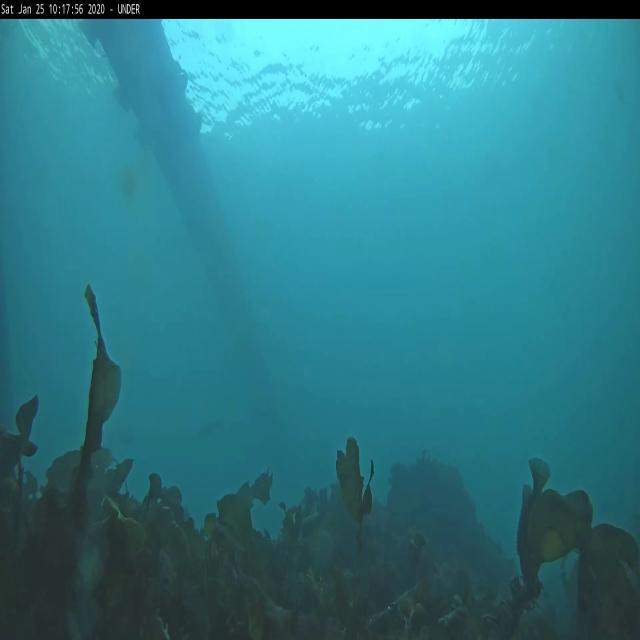fish: (197, 417, 227, 439)
